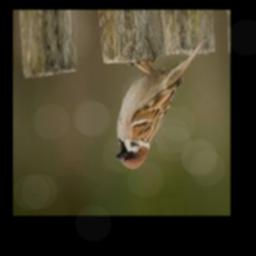Sparrow: (116, 36, 206, 170)
